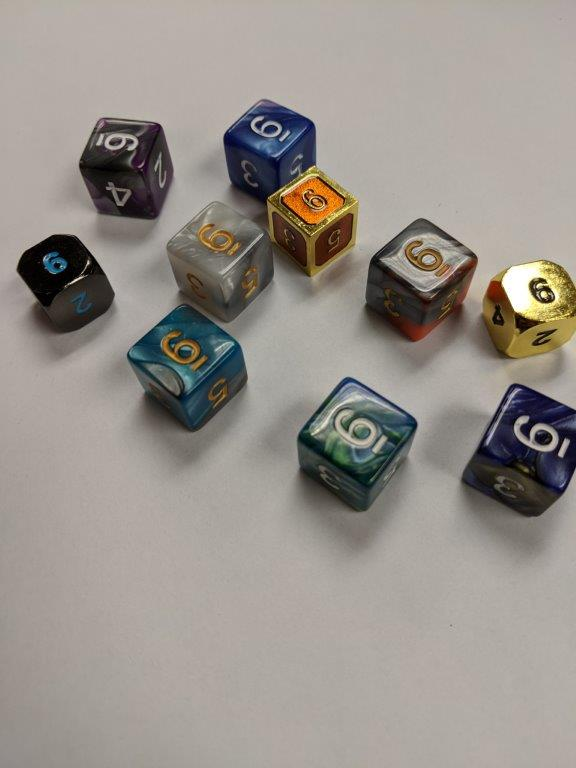d6-6: (297, 376, 416, 514), (457, 382, 576, 520), (129, 302, 247, 427), (367, 213, 477, 340), (164, 199, 273, 318), (261, 163, 358, 277), (77, 114, 177, 222), (12, 237, 120, 335), (221, 97, 324, 192), (485, 258, 576, 361)
